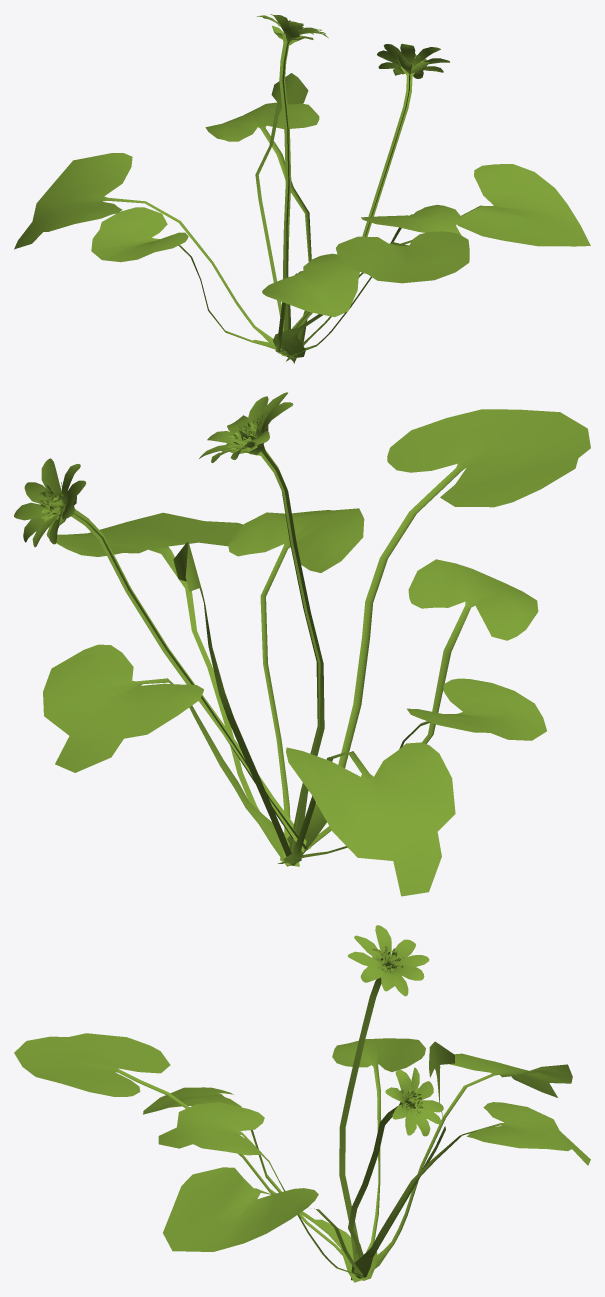
The model's file is groundcover_plant_09.fbx.
3 views of the same model, one above another, from view 1: azimuth 30°, elevation 25°; view 2: azimuth 150°, elevation 25°; view 3: azimuth 270°, elevation 25° (orthographic). The views are drawn at different scales.
Parts seen in each view (by area): view 1: groundcover_plant_09_LOD0; view 2: groundcover_plant_09_LOD0; view 3: groundcover_plant_09_LOD0.
Part boxes in pixels (box(x1,y1,x2,y2)): groundcover_plant_09_LOD0: box(14, 14, 590, 363); groundcover_plant_09_LOD0: box(14, 392, 590, 896); groundcover_plant_09_LOD0: box(14, 925, 590, 1282).
Size of what is drawn, in the model's own units: 0.1867 by 0.1495 by 0.2229.
